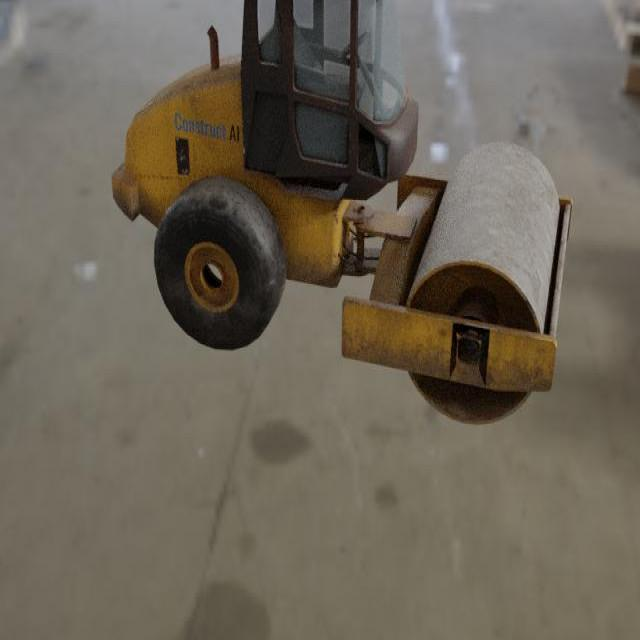Roller: (110, 0, 573, 427)
